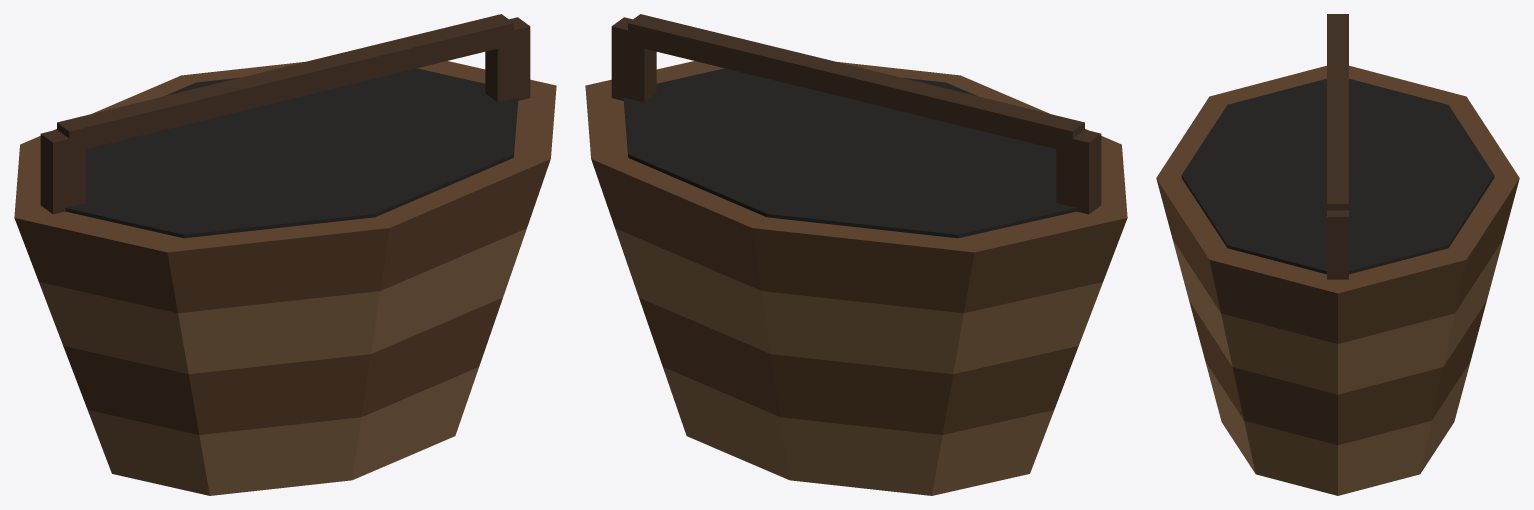
Rendered from SM_Wood_Basket_D.glb.
The picture shows the model from 3 angles, left to right: view 1: azimuth 30°, elevation 25°; view 2: azimuth 150°, elevation 25°; view 3: azimuth 270°, elevation 25°; orthographic projection. The views are drawn at different scales.
Visible parts, largest first — view 1: SM_Wood_Basket_D; view 2: SM_Wood_Basket_D; view 3: SM_Wood_Basket_D.
Boxes of the visible parts, bbox=[...] form: SM_Wood_Basket_D: bbox=[14, 14, 556, 495]; SM_Wood_Basket_D: bbox=[585, 14, 1127, 495]; SM_Wood_Basket_D: bbox=[1156, 14, 1519, 495].
Bounding box in the file's own units: 0.772 × 0.488 × 0.514.
Materials: 1 (1 with a texture image).
